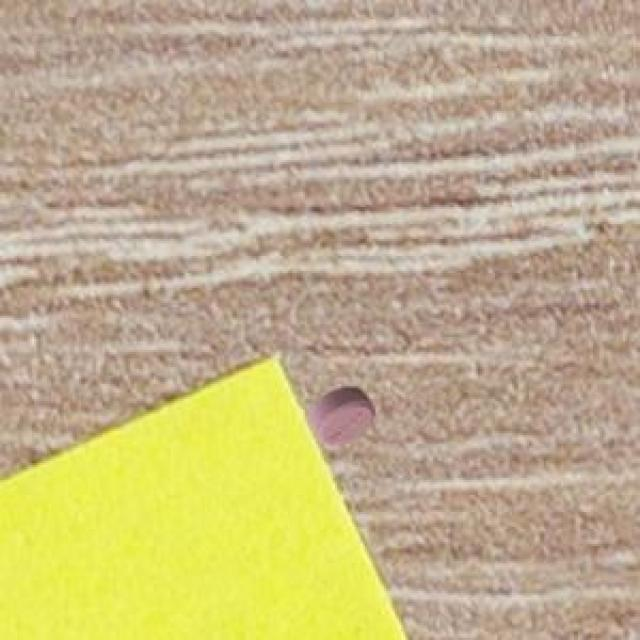Kremil_S: (301, 369, 384, 457)
